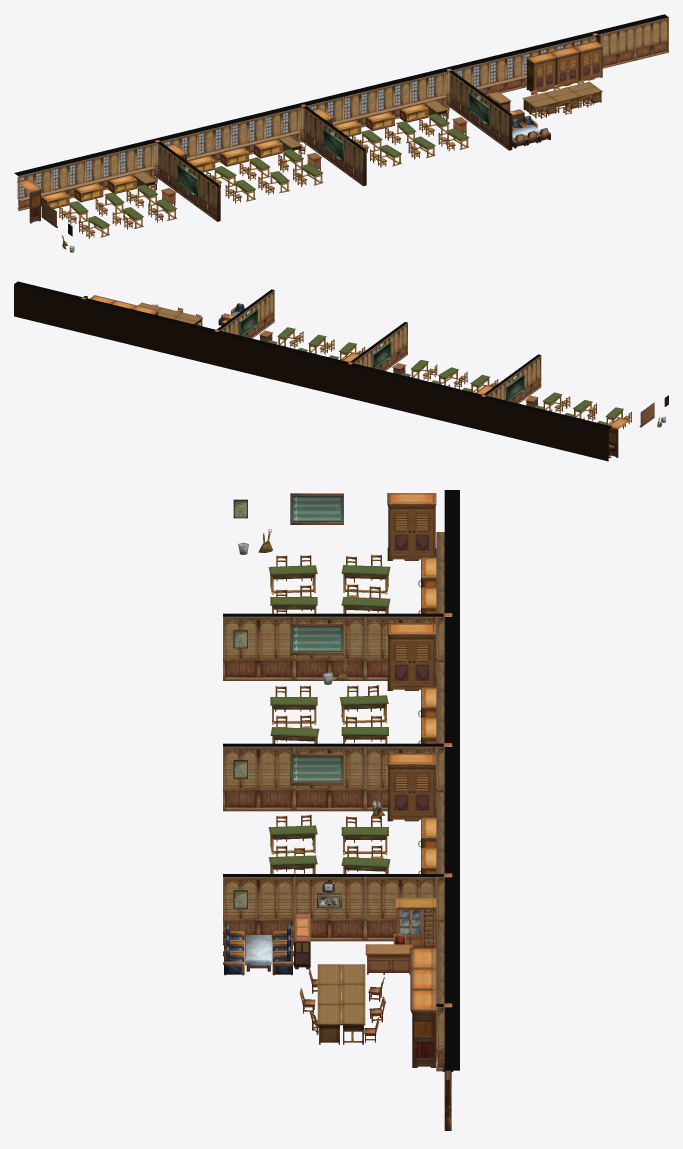
File: s_SWGclass01a.glb
3 views of the same model, one above another, from view 1: azimuth 30°, elevation 25°; view 2: azimuth 150°, elevation 25°; view 3: azimuth 270°, elevation 25° (orthographic). The views are drawn at different scales.
Visible parts, largest first — view 1: s_SWGclass01a; view 2: s_SWGclass01a; view 3: s_SWGclass01a.
Boxes of the visible parts, left/top/right/bottom form: s_SWGclass01a: left=14, top=14, right=668, bottom=252; s_SWGclass01a: left=14, top=281, right=668, bottom=461; s_SWGclass01a: left=223, top=490, right=459, bottom=1130.
Size of the model in its own units: 58.42 by 3.08 by 10.
Materials: 26 (26 with a texture image).
